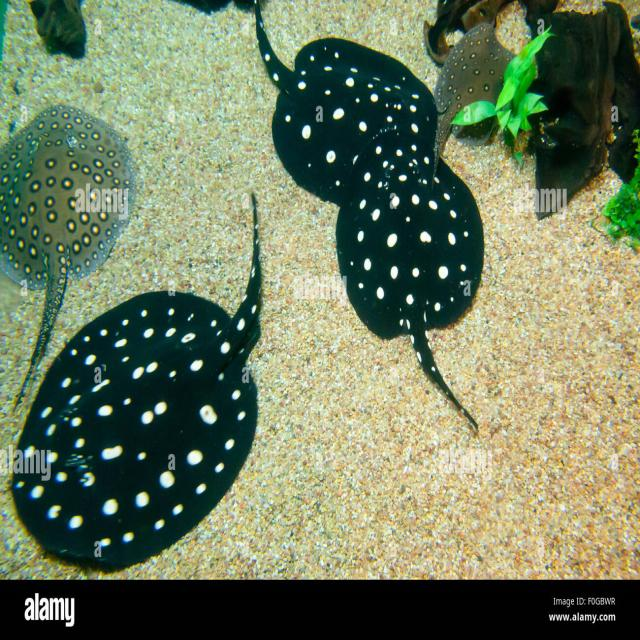black-diamond-sting-ray: (12, 228, 320, 570), (320, 149, 516, 432), (229, 5, 436, 213)
